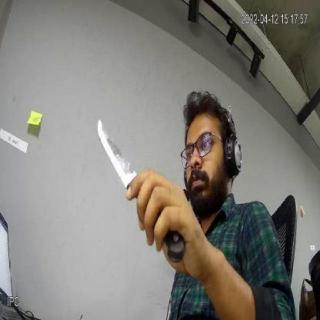knife: (93, 117, 147, 201)
